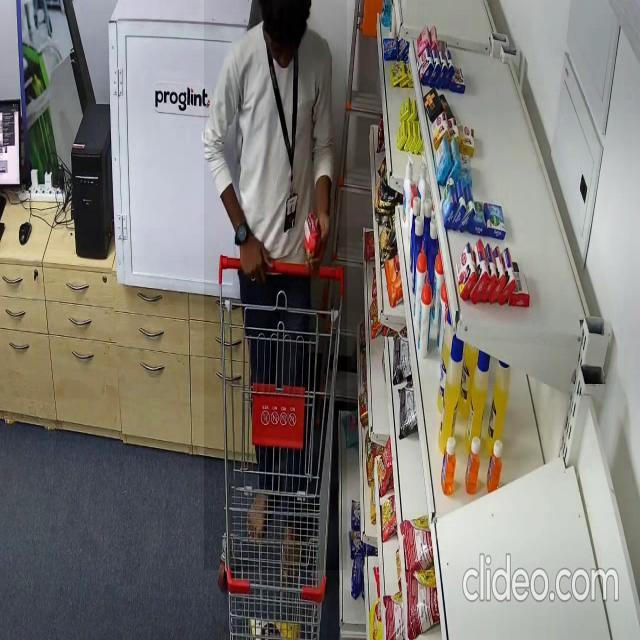normal: (204, 0, 347, 570)
